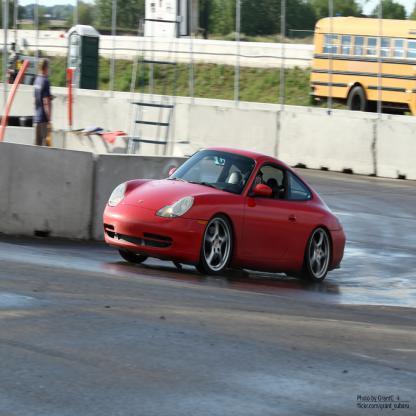Bus: (309, 15, 415, 116)
